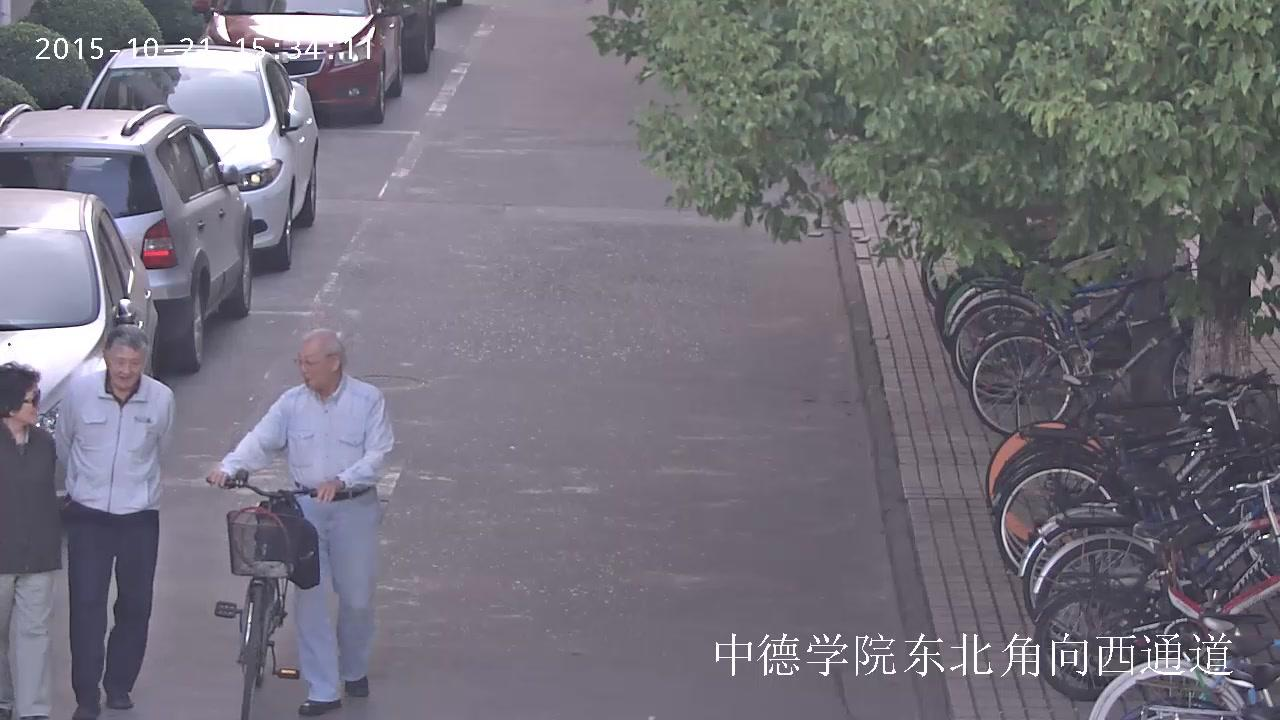face: (110, 345, 145, 389), (298, 344, 330, 389), (17, 384, 38, 426)
